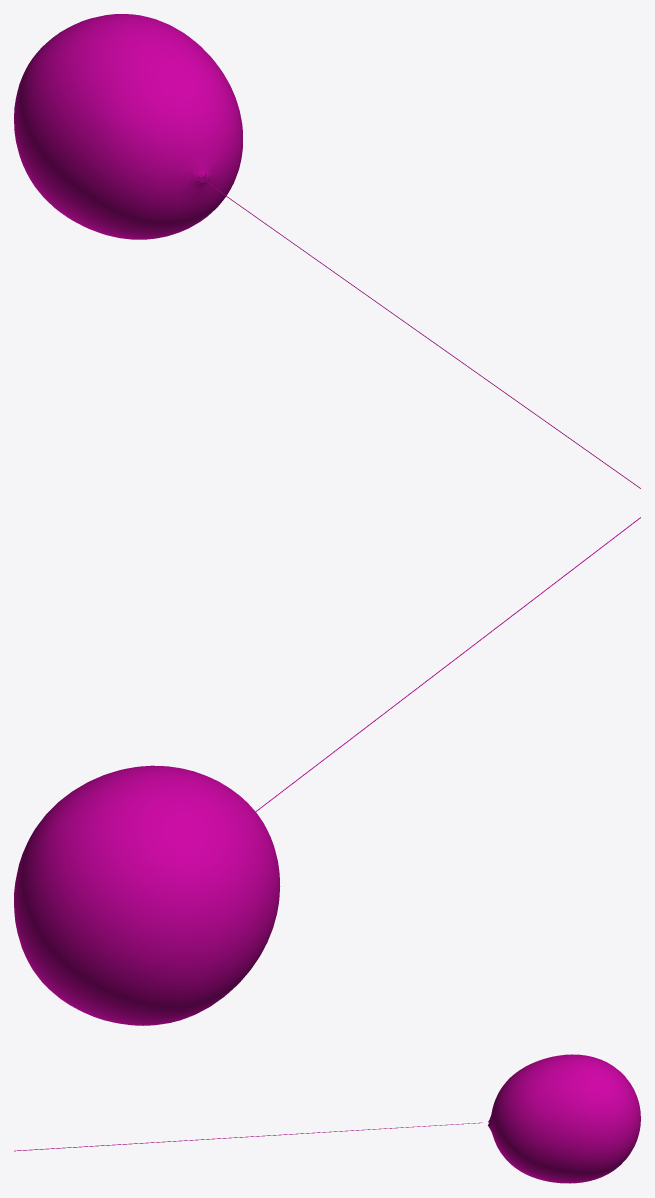
File: Balloons_03.fbx
3 views of the same model, one above another, from view 1: azimuth 30°, elevation 25°; view 2: azimuth 150°, elevation 25°; view 3: azimuth 270°, elevation 25° (orthographic). The views are drawn at different scales.
Visible parts, largest first — view 1: Balloons_03__2_; view 2: Balloons_03__2_; view 3: Balloons_03__2_.
Boxes of the visible parts, x1,y1,x2,y2 form: Balloons_03__2_: [14, 14, 640, 488]; Balloons_03__2_: [14, 517, 640, 1025]; Balloons_03__2_: [14, 1054, 640, 1183].
Size of the model in its own units: 0.5719 by 0.573 by 2.79.
